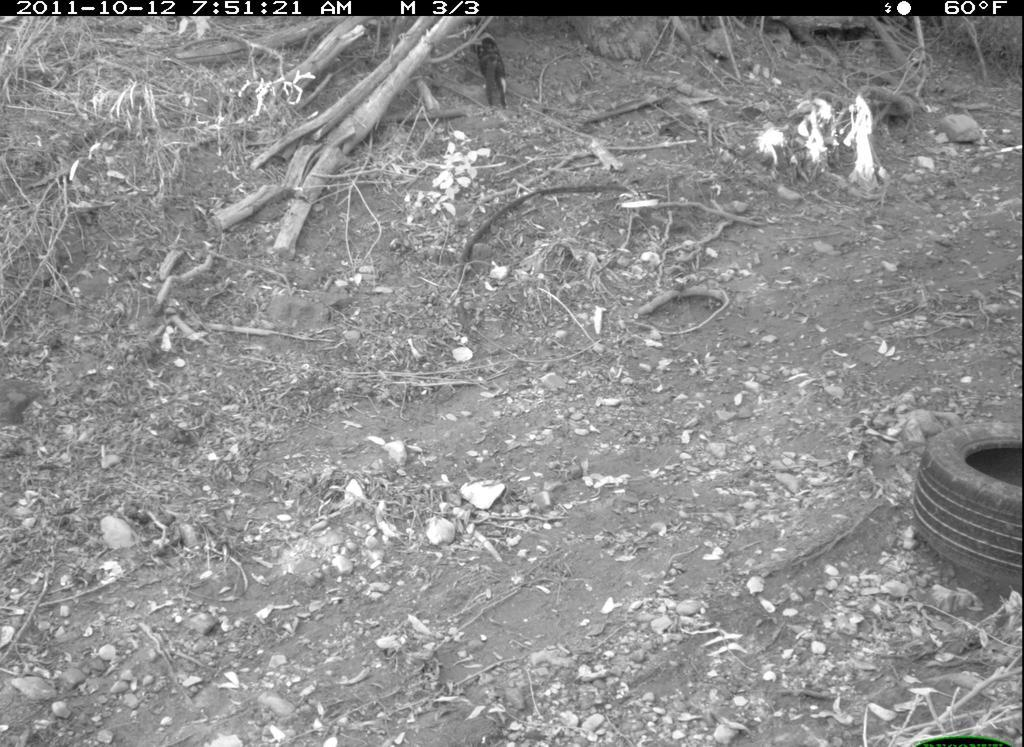cat: (457, 24, 542, 122)
